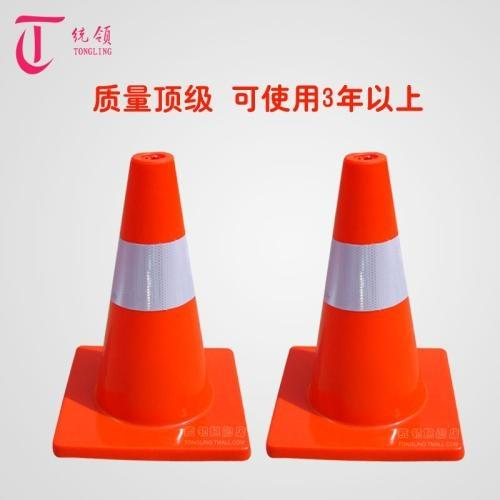cone_barrel: (74, 154, 229, 433), (287, 154, 440, 436)
